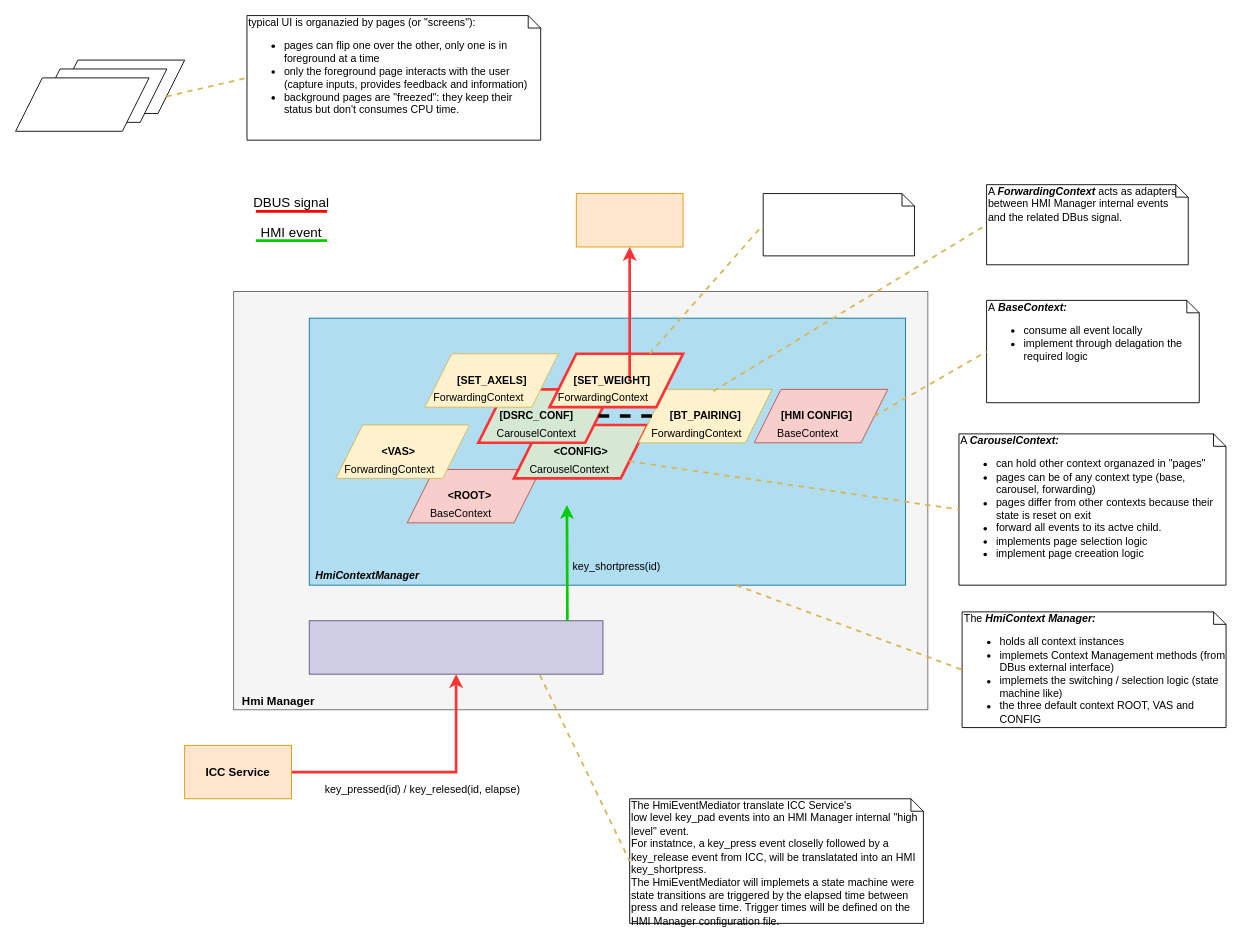
Image size: 1242x943. Some labels were removed from this diagram. Here are the shapes that lost their labels. From the top down, the centre of each, then its label:
the point at 629,220: Tolling Dsrc
the point at 838,224: HMI Events are forwarded to the current active context and, eventulally, page.
the point at 455,647: HmiEventMediator
